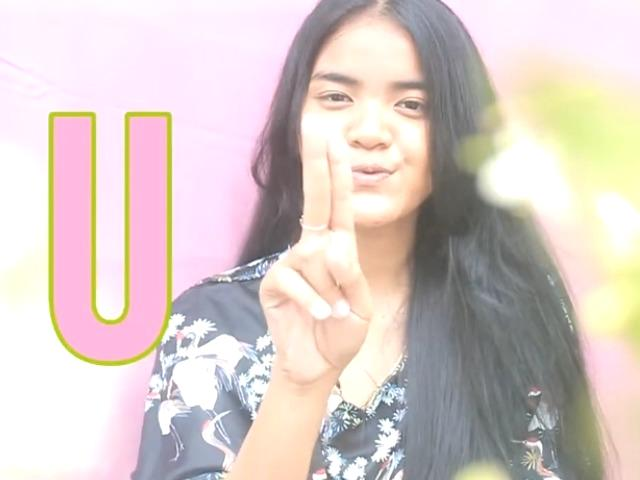U: (260, 109, 374, 396)
